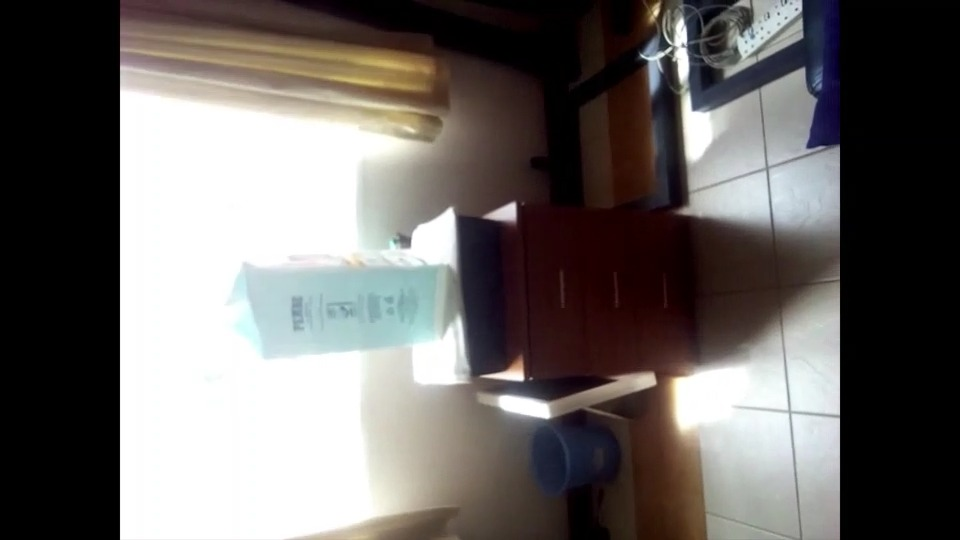wheat_flour_blue_label: (223, 247, 443, 348)
